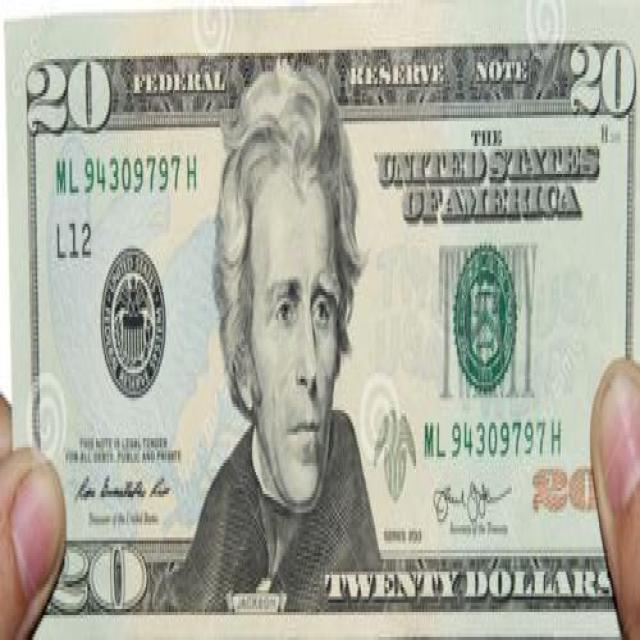20-Front: (9, 12, 636, 634)
